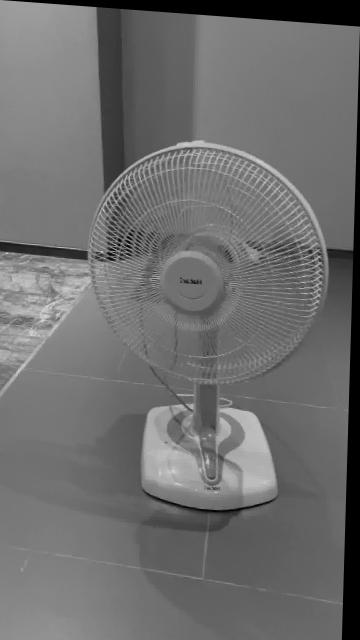Fan: (89, 138, 331, 510)
